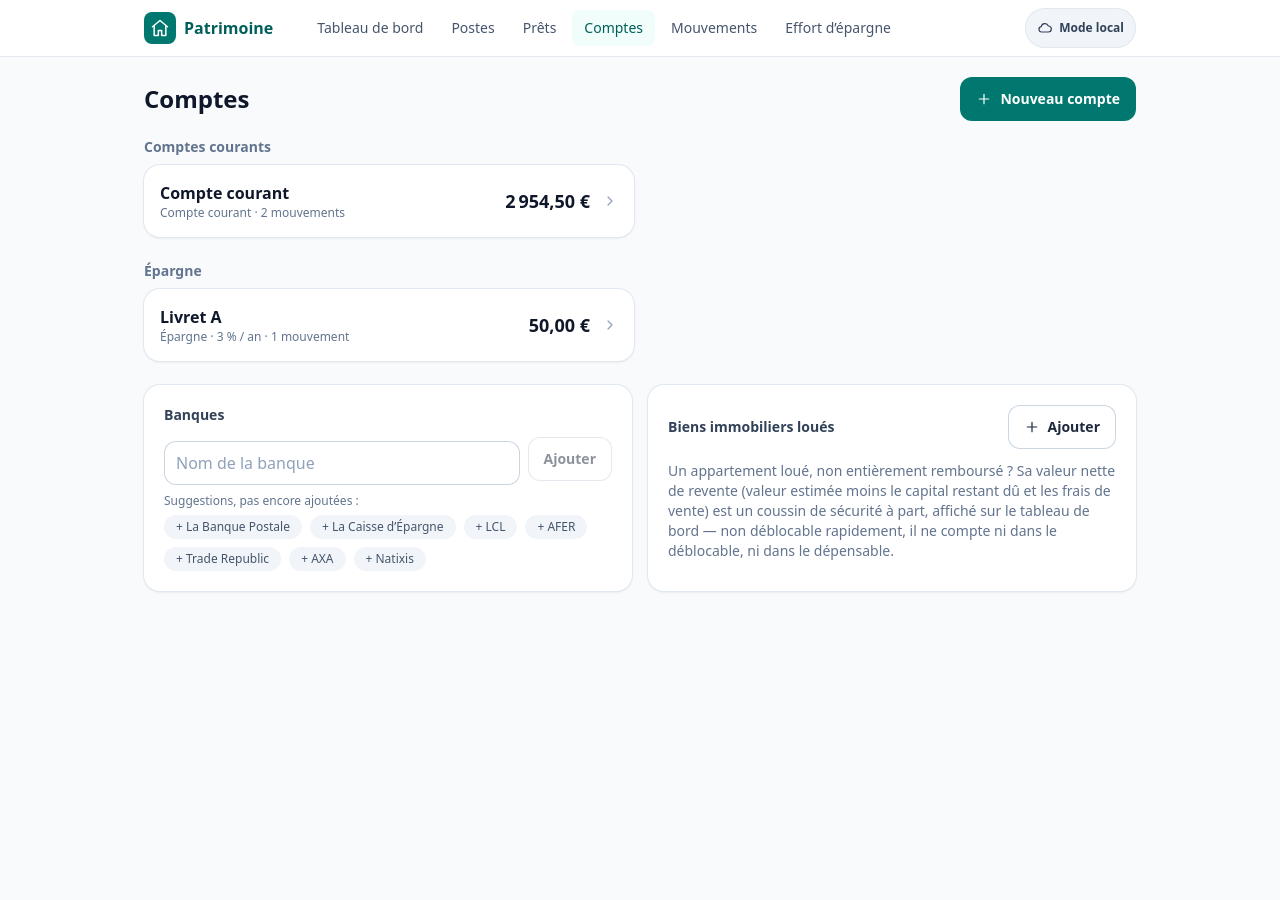
Test case: Application › supprime un compte avec ses mouvements après confirmation
The image size is (1280, 900).
Click the button "Livret A Épargne · 3 % / an · 1 mouvement 50,00 €" at point(191, 317), box [144,289,634,361]
(page scrolled)
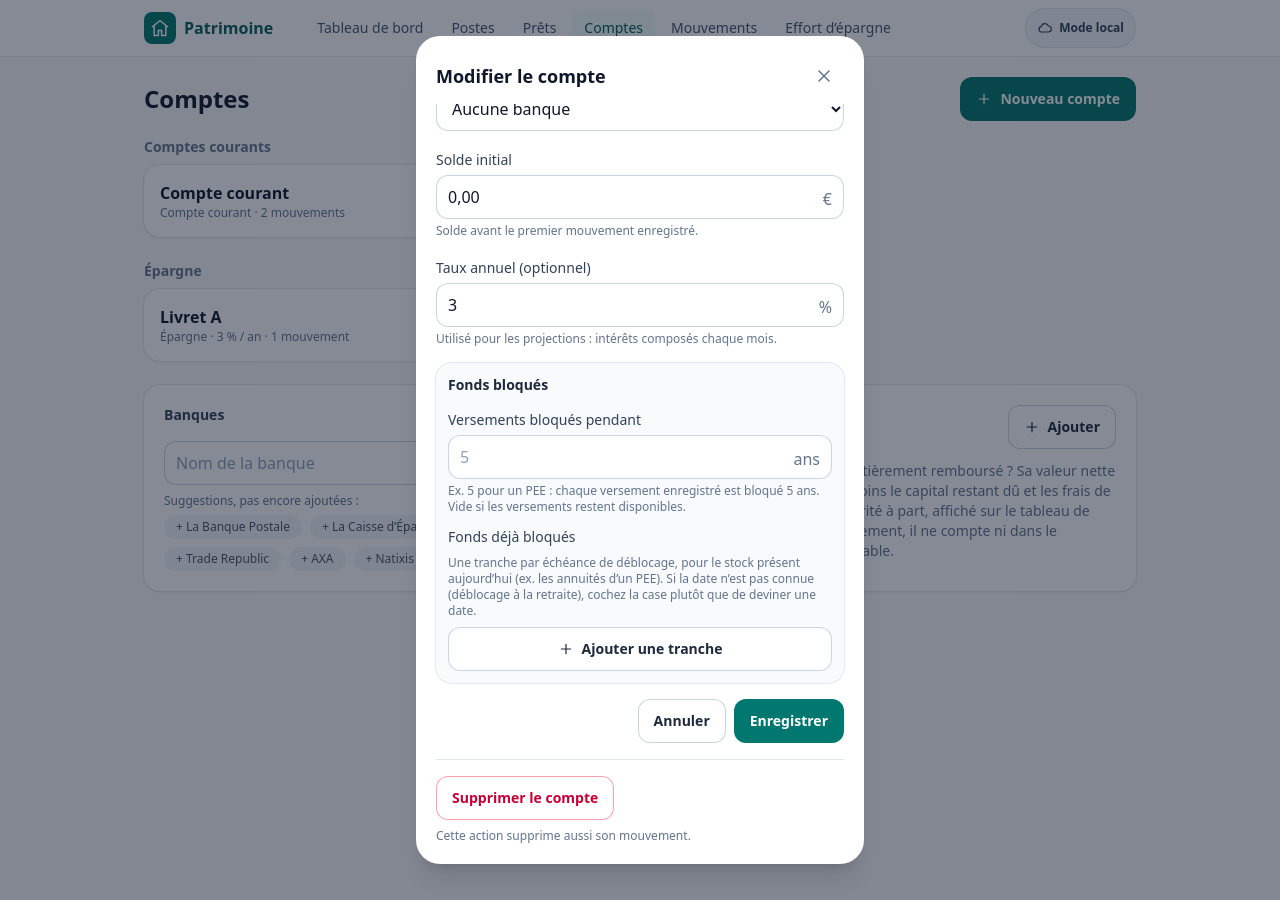
Now the text "Cette action supprime aussi son mouvement." is shown, box [436,827,691,844]
Click the button "Supprimer le compte" at point(525, 798), box [436,776,614,820]
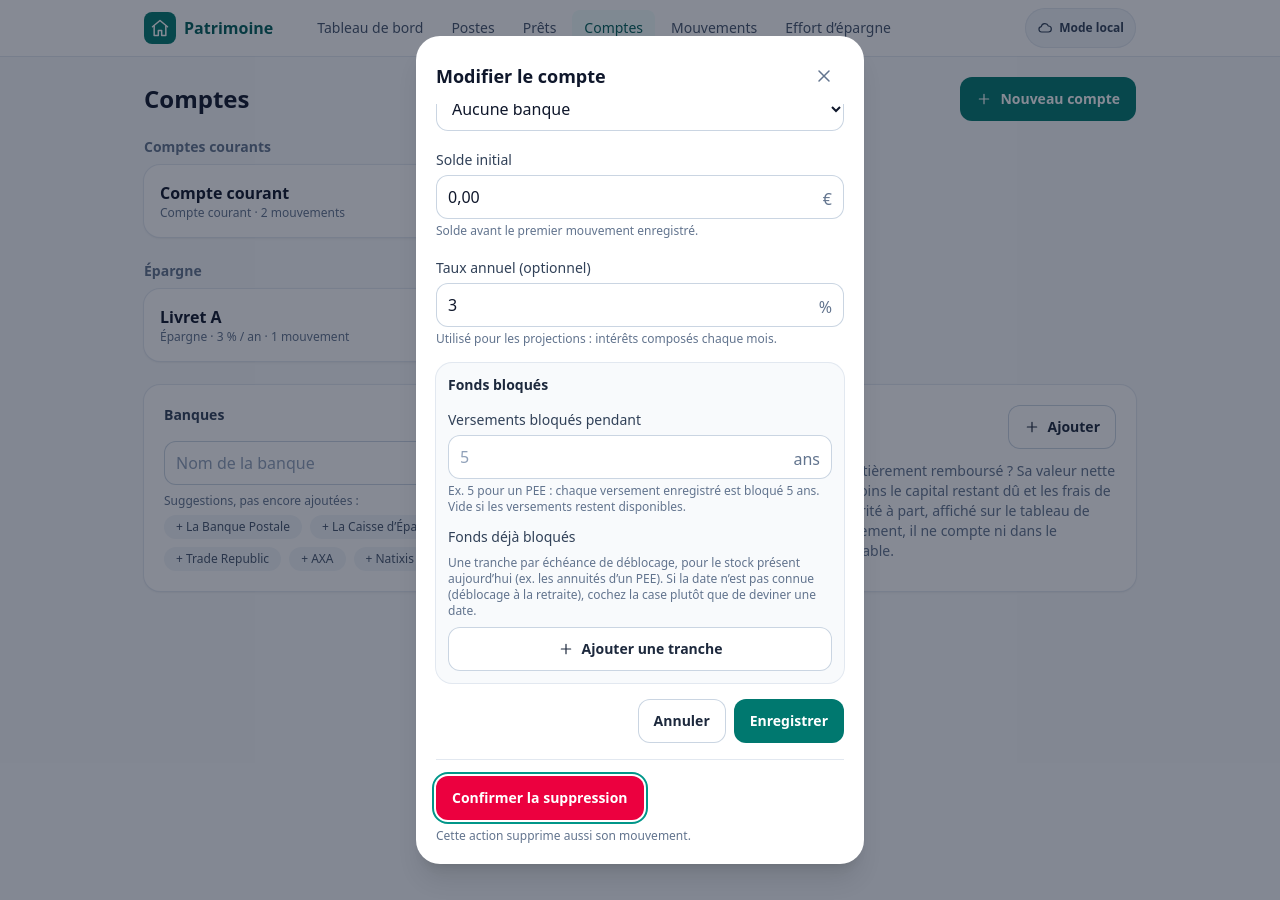
Click the button "Confirmer la suppression" at point(540, 798), box [436,776,644,820]
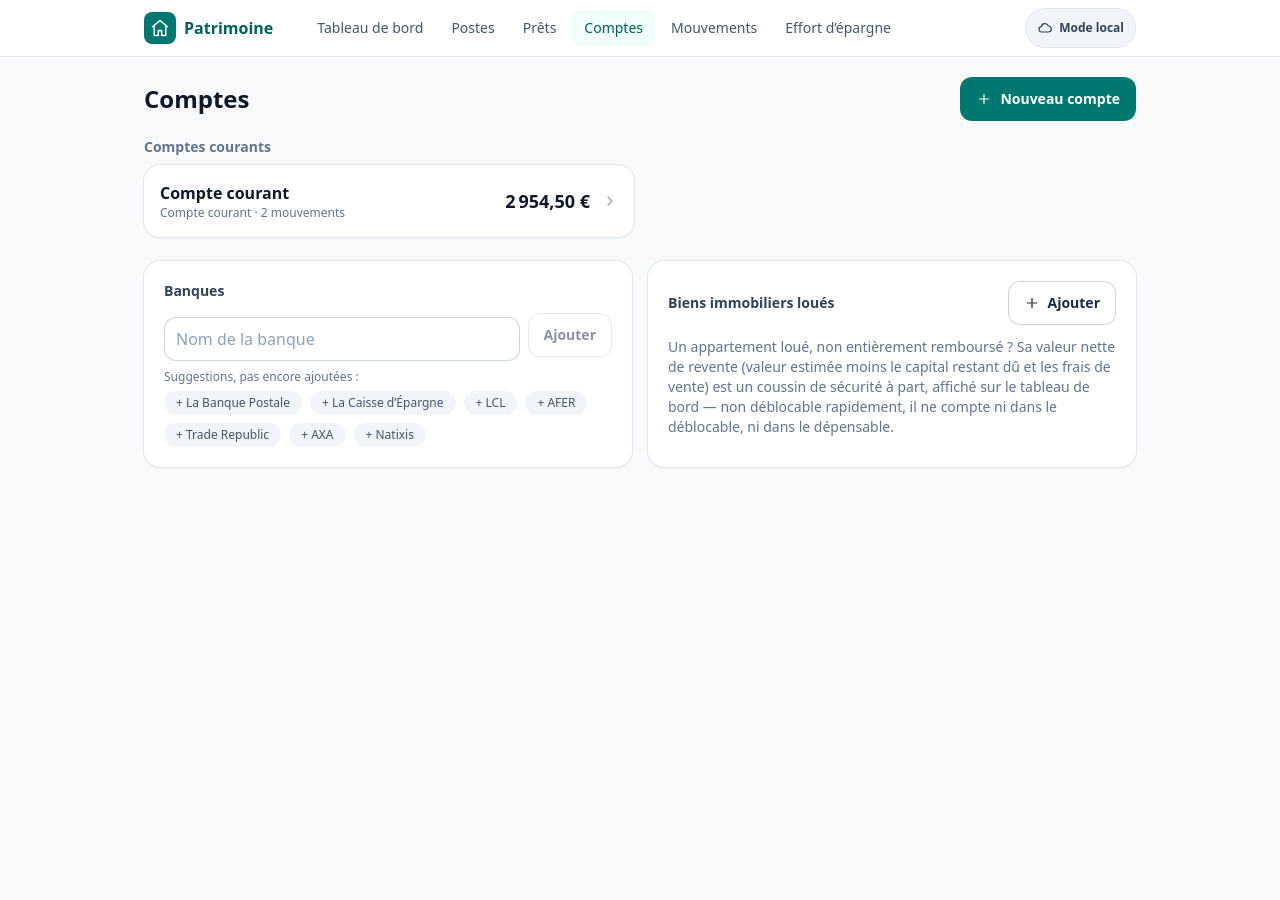
Now the button "Livret A" is gone
